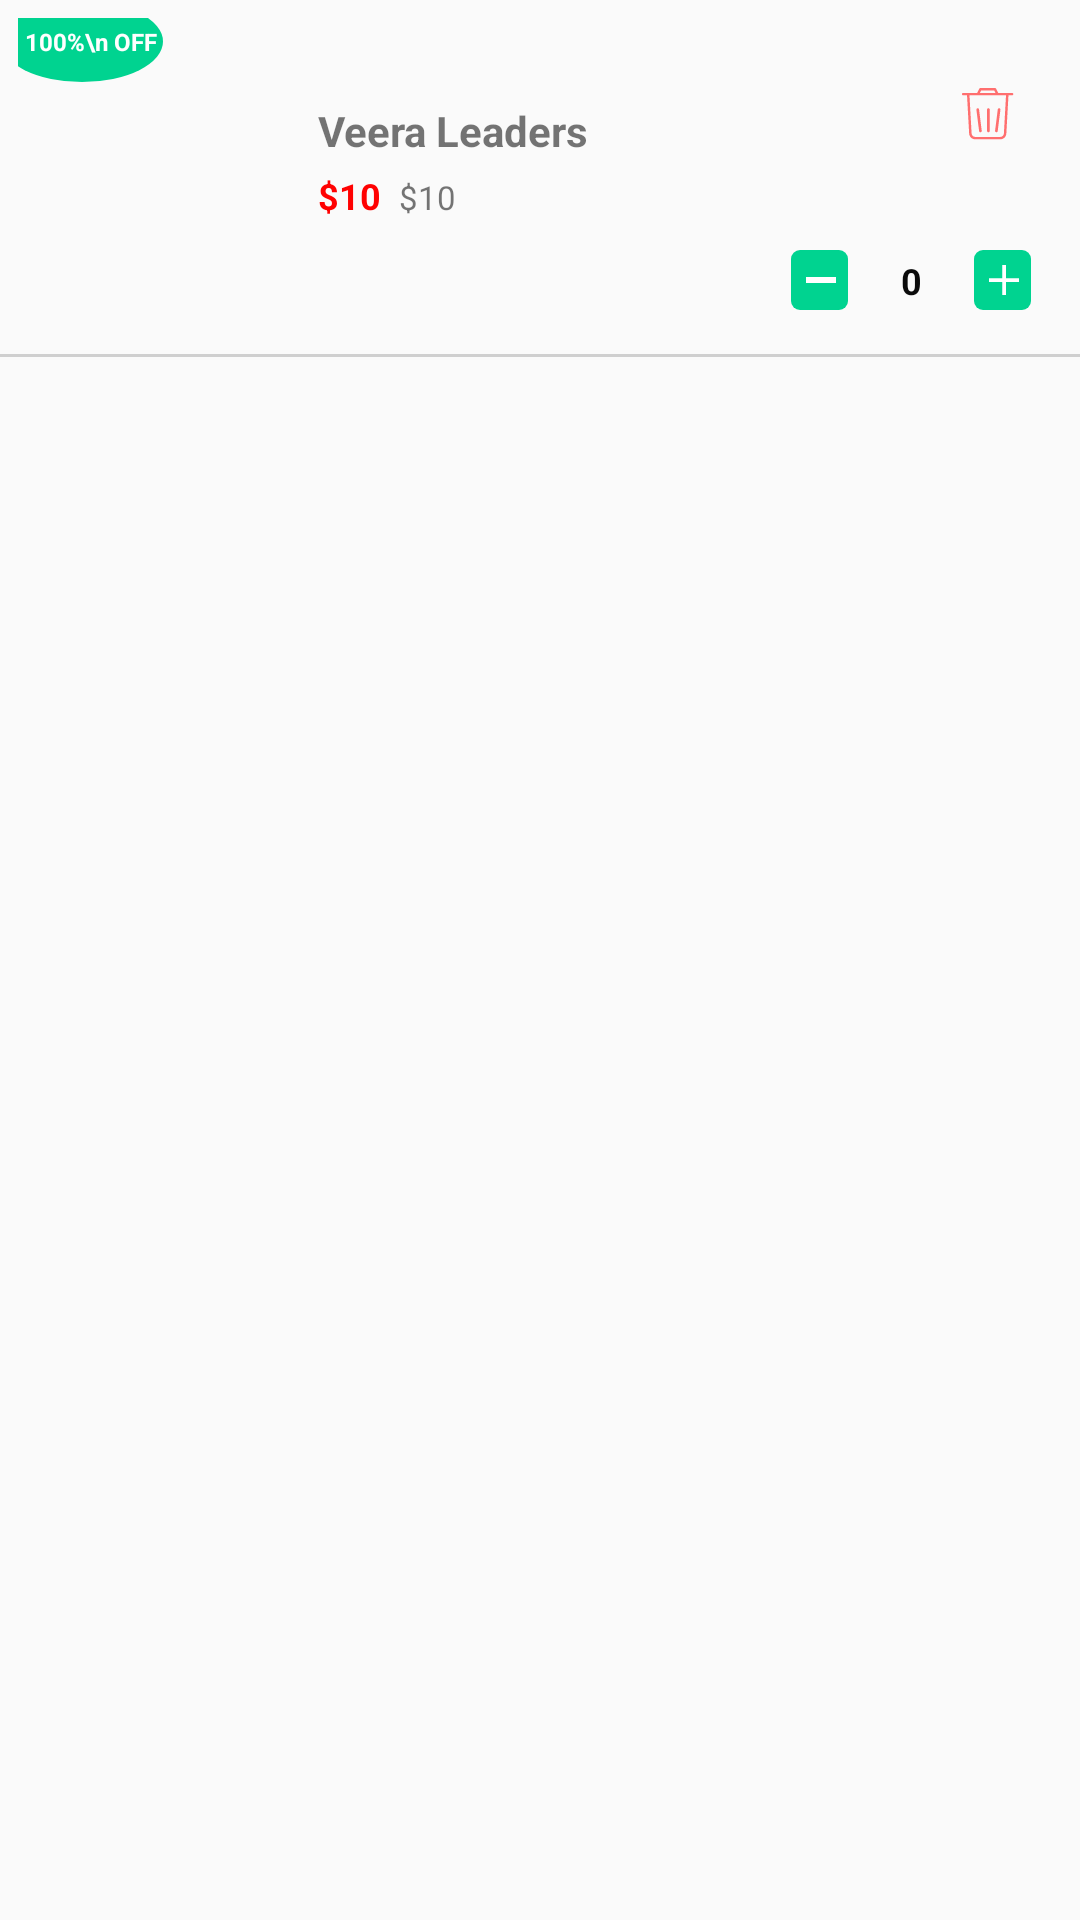

Where to tap for icons on this 1080x1920 app screen, as (x,y):
delete: (988,114)
minus sq: (819,280)
plus sq: (1002,280)
